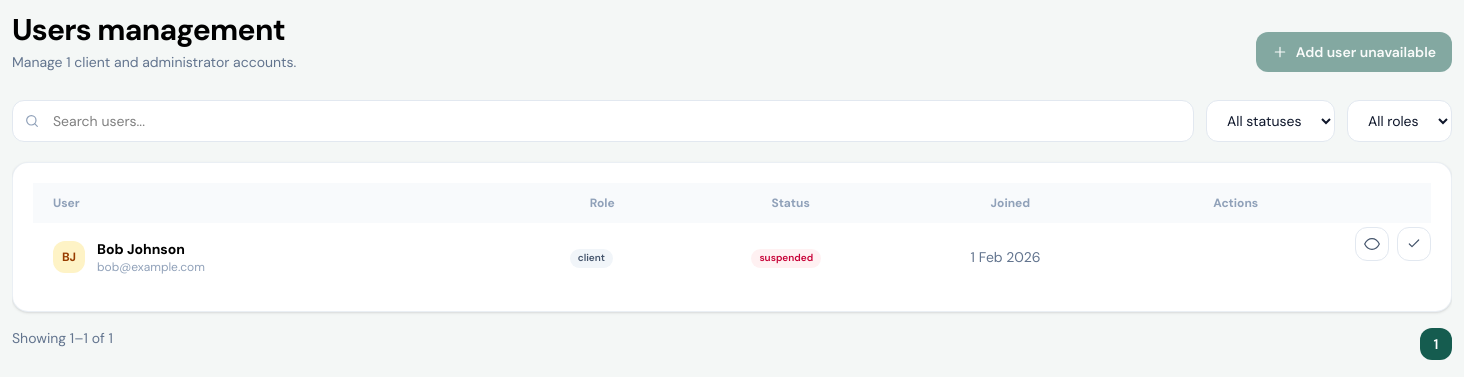
Test case: AdminUsers › reactivates a suspended user
Expected: the text "Bob Johnson" is shown, x1=97 y1=240 x2=185 y2=258
What coordinates should you click on to do the following:
click the button named "Reactivate Bob Johnson"
I would click on:
 (1414, 244)
Its box is x1=1397 y1=227 x2=1431 y2=261.
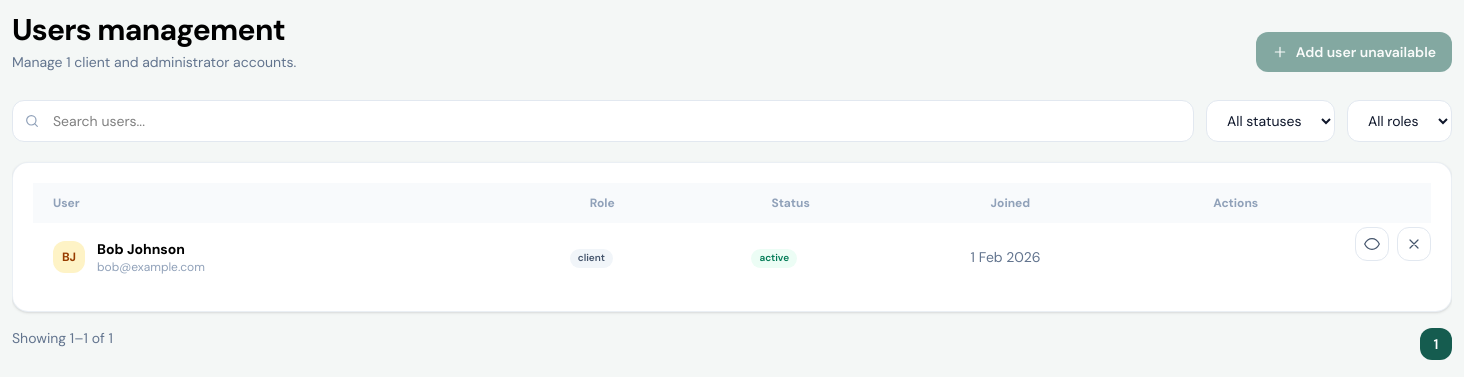
Expected: the button named "Suspend Bob Johnson" is shown, x1=1397 y1=227 x2=1431 y2=261
